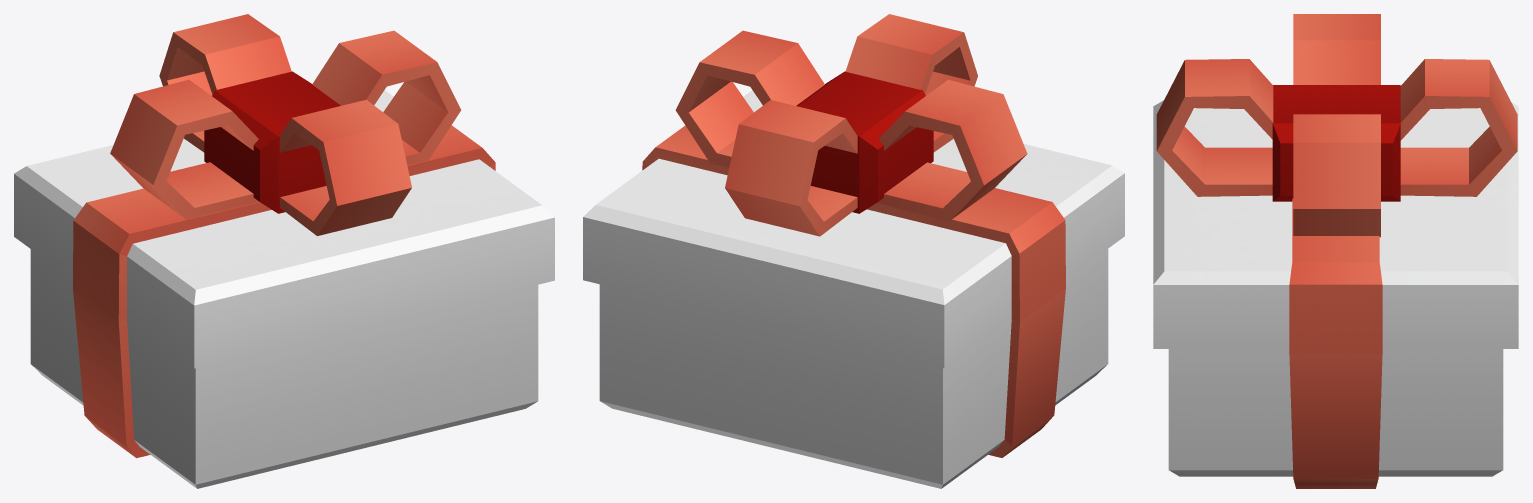
The picture shows the model from 3 angles, left to right: view 1: azimuth 30°, elevation 25°; view 2: azimuth 150°, elevation 25°; view 3: azimuth 270°, elevation 25°; orthographic projection.
Visible parts, largest first — view 1: smMAT0110021; view 2: smMAT0110021; view 3: smMAT0110021.
Part boxes in pixels (<box>): smMAT0110021: <box>14,14,554,488</box>; smMAT0110021: <box>583,14,1124,488</box>; smMAT0110021: <box>1153,14,1518,488</box>.
Bounding box in the file's own units: 75.01 × 61.73 × 62.03.
Materials: 1 (1 with a texture image).
